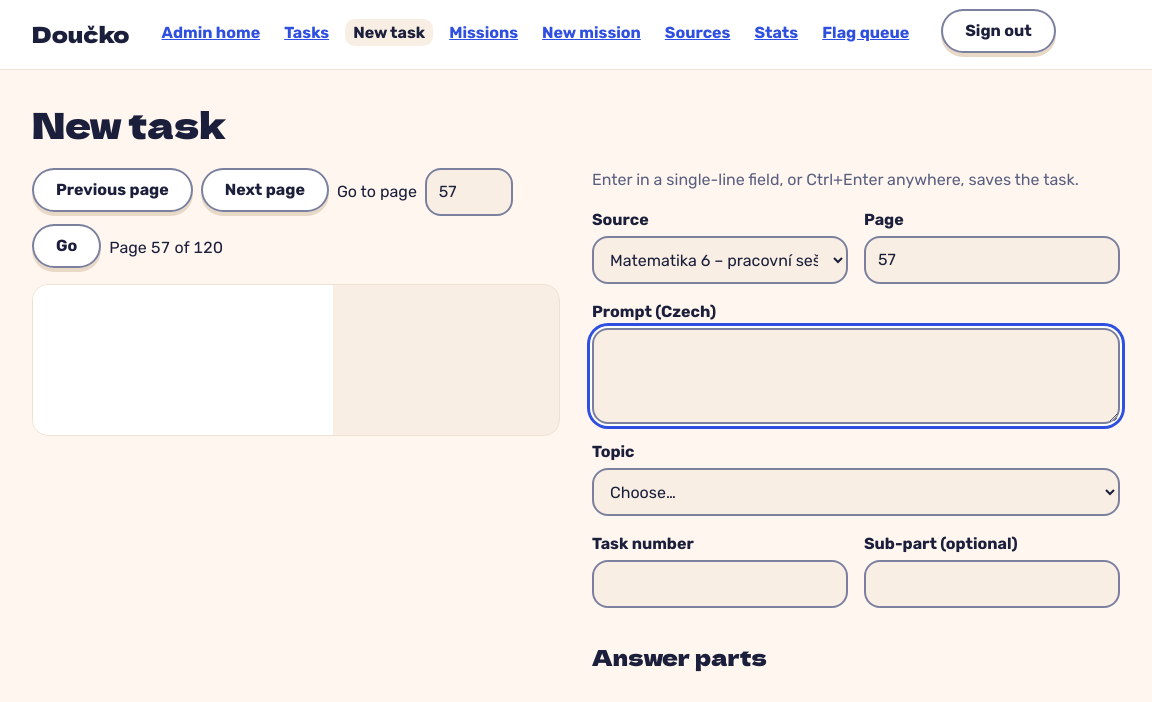
Test: new task form (FR-3) › says saving failed when the server cannot be reached
Expected: the heading "New task" is shown, x1=32 y1=97 x2=226 y2=149
Expected: the dropdown labelled "Source" shows "Matematika 6 – pracovní sešit", x1=592 y1=236 x2=848 y2=284
In the text box labelled "Prompt (Czech)": (856, 376) x1=592 y1=328 x2=1120 y2=424, type "Kolik je 7 + 5?"
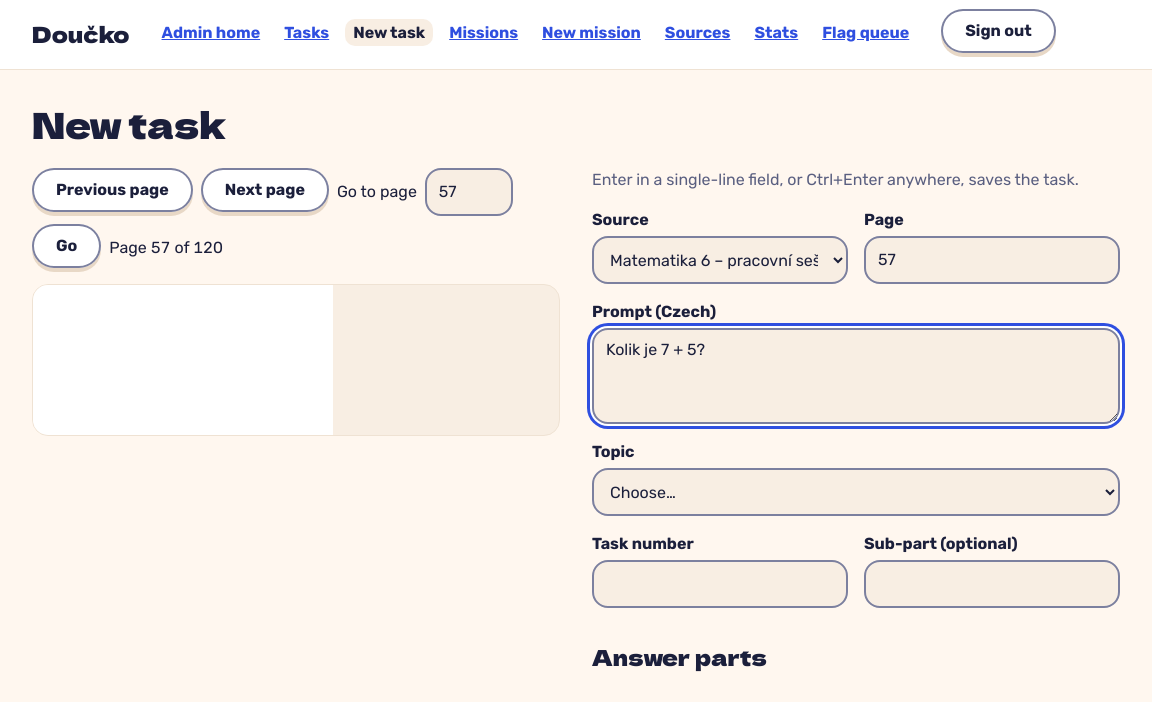
Select "Desetinná čísla" in the dropdown labelled "Topic": (856, 492) x1=592 y1=468 x2=1120 y2=516
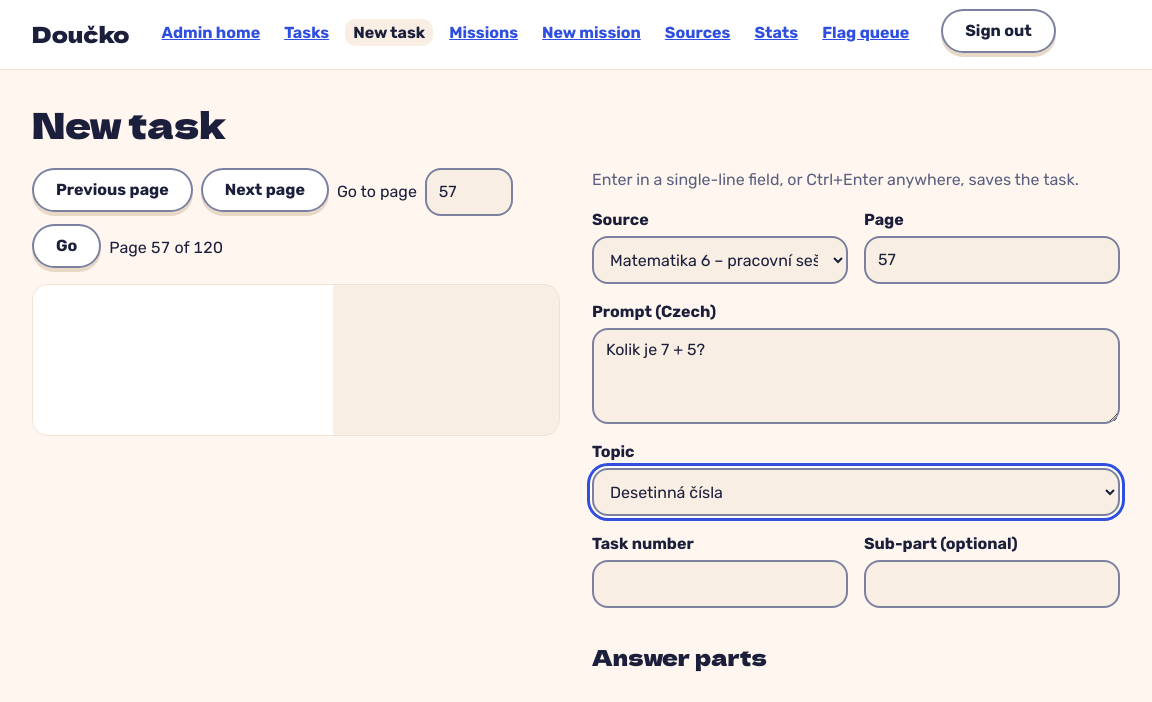
In the field labelled "Task number": (720, 584) x1=592 y1=560 x2=848 y2=608, type "4"
(page scrolled)
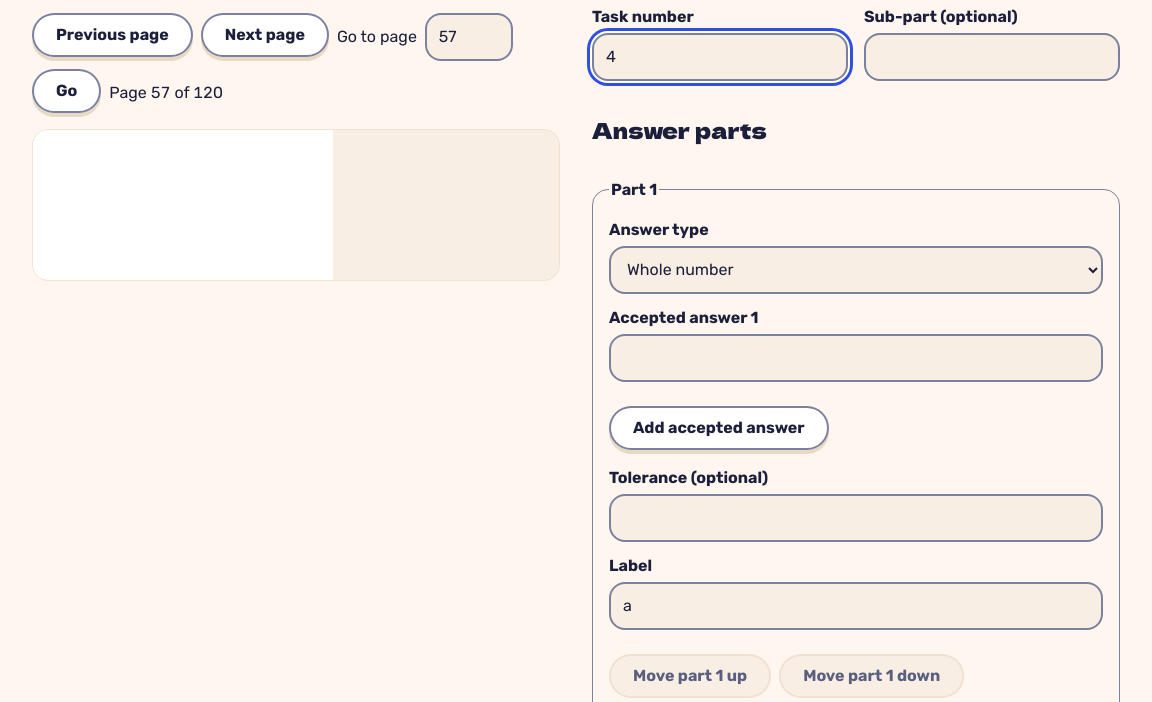
In the field labelled "Accepted answer 1": (856, 358) x1=609 y1=334 x2=1103 y2=382, type "12"
(page scrolled)
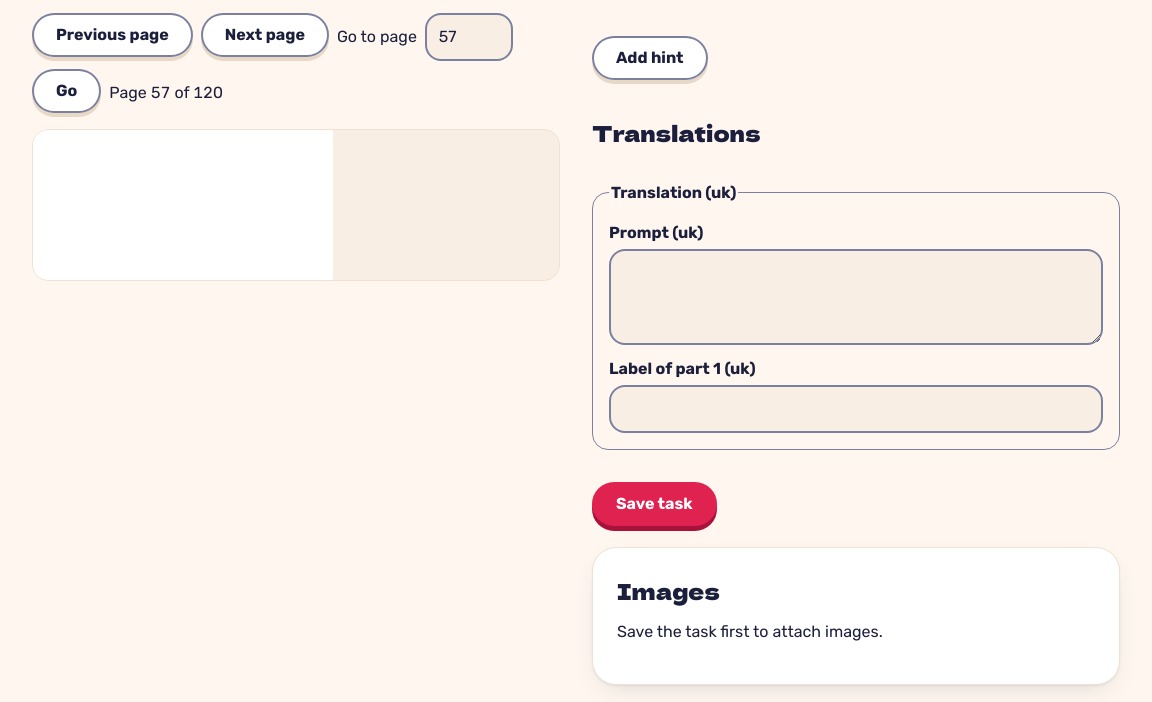
Click the button "Save task": (654, 504) x1=592 y1=482 x2=717 y2=526
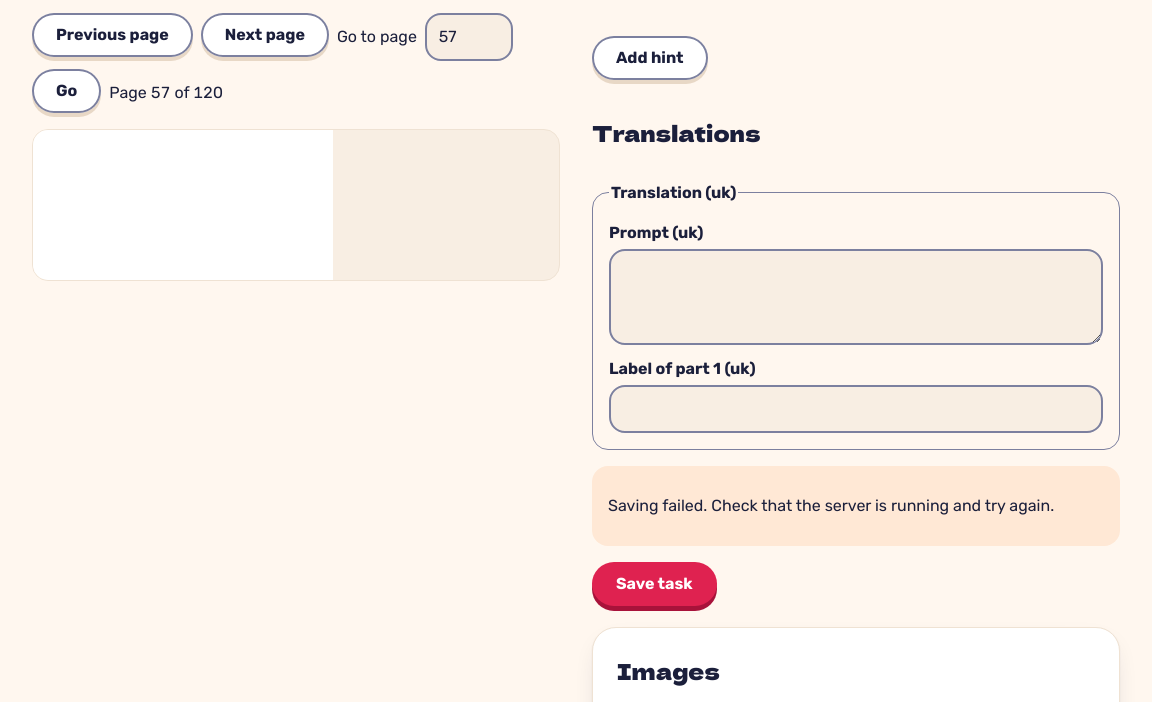
Expected: the message reads "Saving failed. Check that the server is running and try again.", x1=608 y1=496 x2=1054 y2=514
